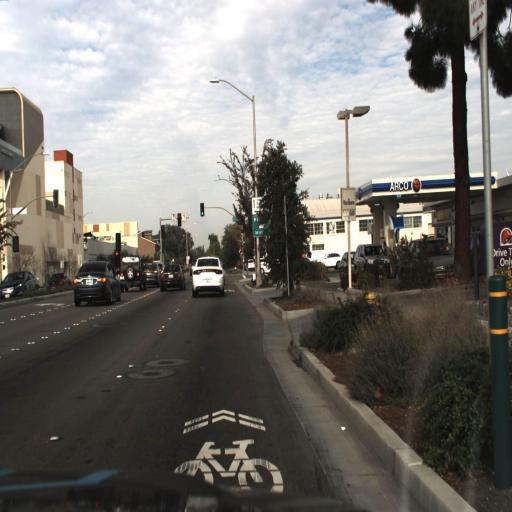car: (399, 221, 469, 293), (70, 261, 123, 307), (416, 236, 456, 282), (190, 252, 226, 300), (352, 242, 390, 282), (119, 254, 149, 290), (156, 260, 186, 296), (42, 264, 71, 298), (337, 242, 356, 292), (318, 245, 347, 272), (142, 259, 161, 291)
trafficLight-Green: (198, 197, 207, 221), (196, 200, 206, 220)
trafficLight-Red: (175, 208, 184, 230), (157, 220, 165, 236)
